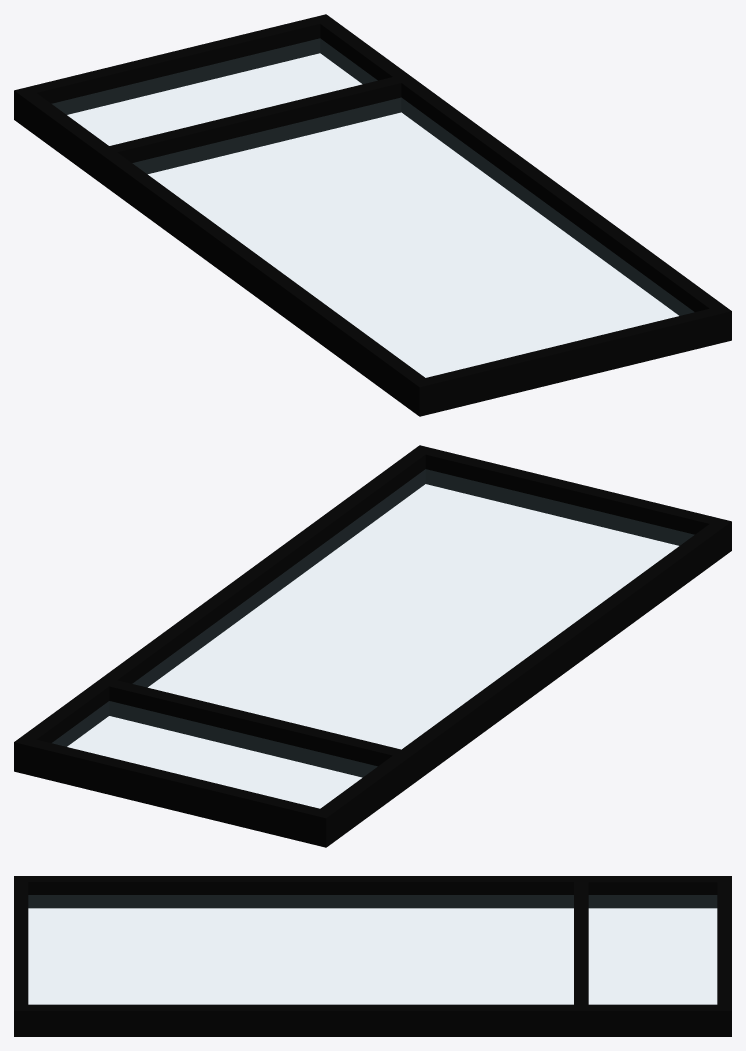
File: Window01.fbx
3 views of the same model, one above another, from view 1: azimuth 30°, elevation 25°; view 2: azimuth 150°, elevation 25°; view 3: azimuth 270°, elevation 25° (orthographic). The views are drawn at different scales.
Parts seen in each view (by area): view 1: WindowFrame; view 2: WindowFrame; view 3: WindowFrame.
Boxes of the visible parts, x1,y1,x2,y2 form: WindowFrame: [14, 14, 731, 416]; WindowFrame: [14, 445, 731, 847]; WindowFrame: [14, 876, 731, 1036].
Bounding box in the file's own units: 200 × 18 × 450.
